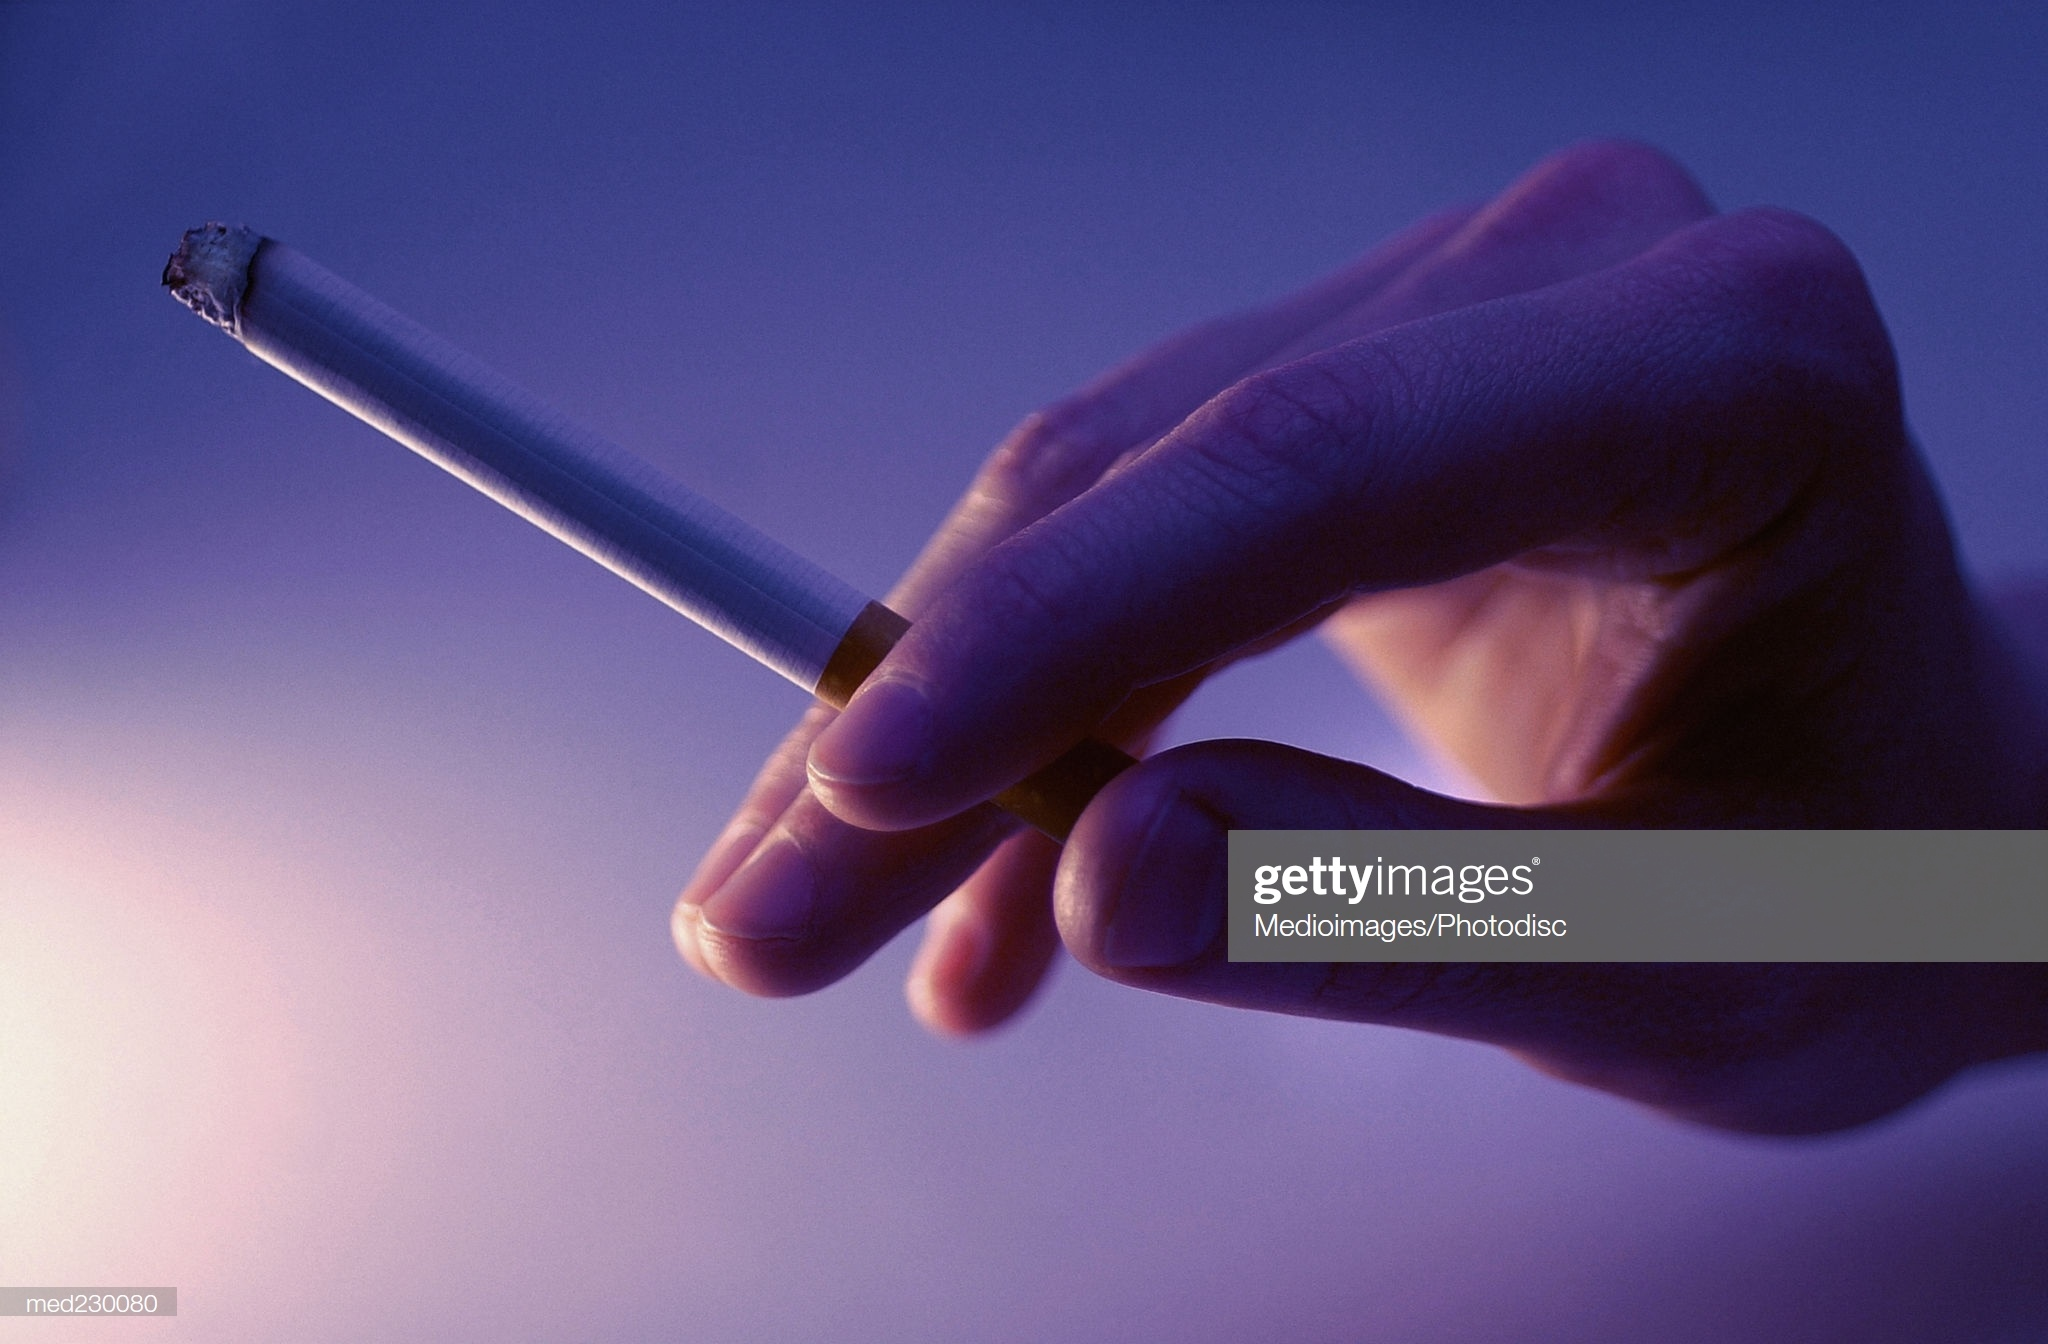sigaretta: (171, 217, 1133, 822)
